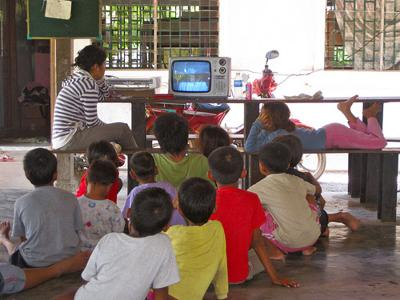person: (51, 46, 141, 153)
